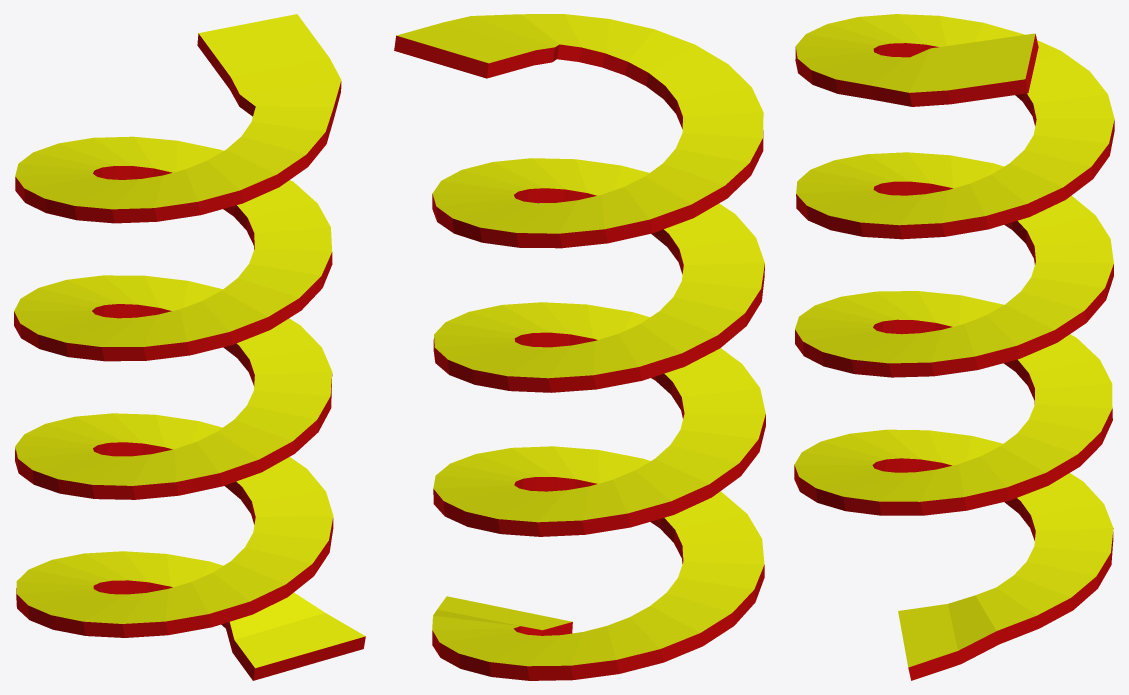
File: SM_WaterShape_Corkskrew_001.fbx
3 renders of one model, left to right at view 1: azimuth 30°, elevation 25°; view 2: azimuth 150°, elevation 25°; view 3: azimuth 270°, elevation 25°, orthographic. The views are drawn at different scales.
Parts seen in each view (by area): view 1: Cube.014; view 2: Cube.014; view 3: Cube.014.
Boxes of the visible parts, bbox=[...] form: Cube.014: bbox=[14, 14, 365, 680]; Cube.014: bbox=[394, 14, 765, 680]; Cube.014: bbox=[794, 14, 1114, 680].
Size of the model in its own units: 1346 by 2497 by 1214.
